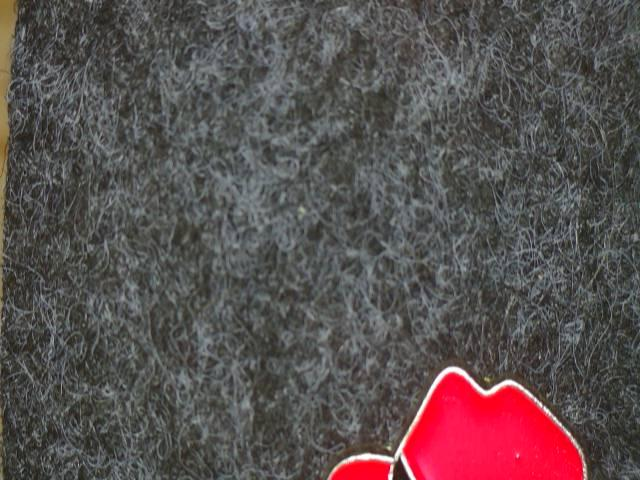Red-Hat: (281, 343, 640, 480)
